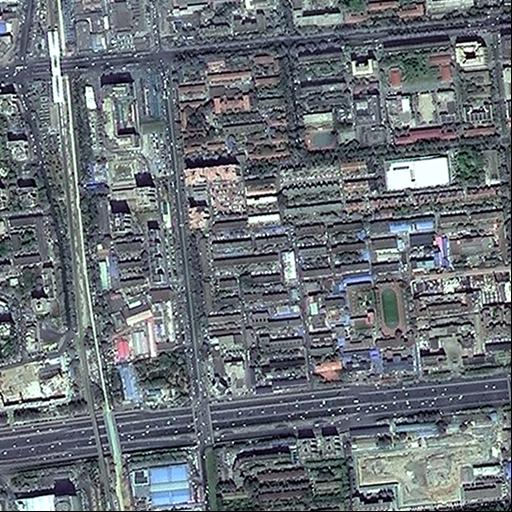school: (343, 278, 411, 348), (297, 109, 340, 154)
